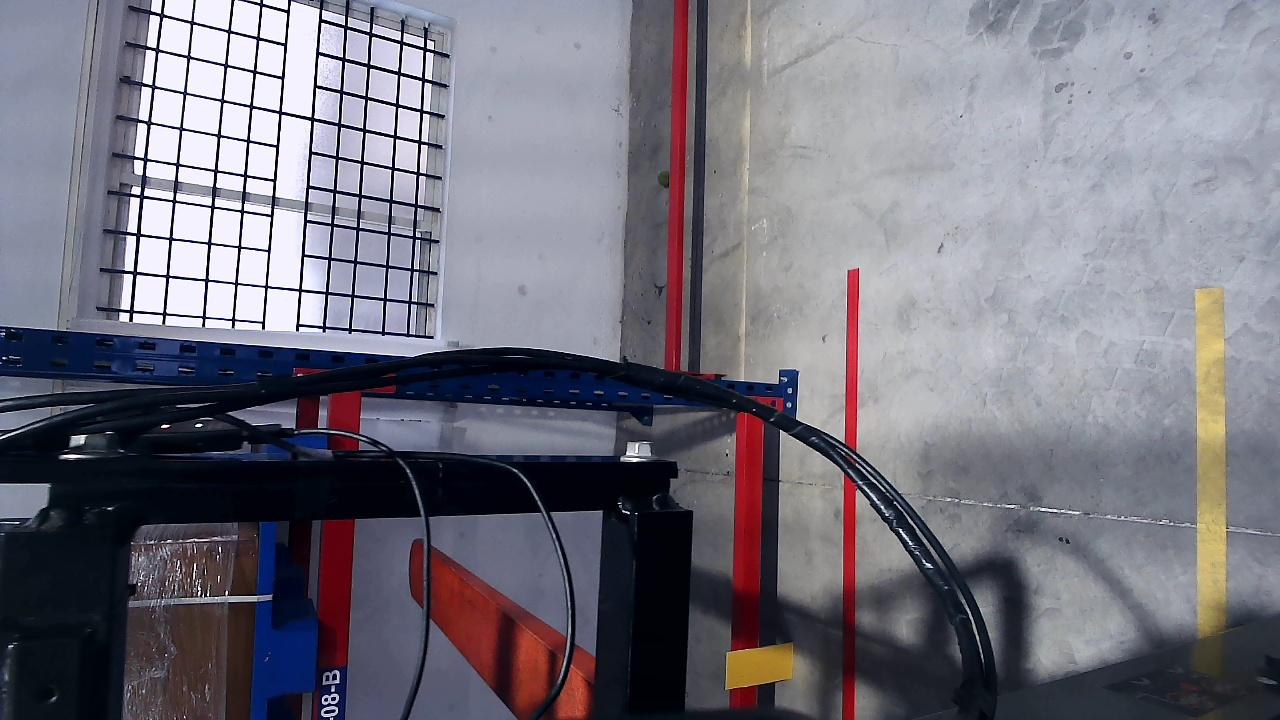h_rack: (312, 395, 368, 719), (733, 412, 768, 709)
orange_strip: (725, 643, 795, 688)
red_line: (839, 267, 861, 720)
yellow_line: (1195, 288, 1227, 647)
